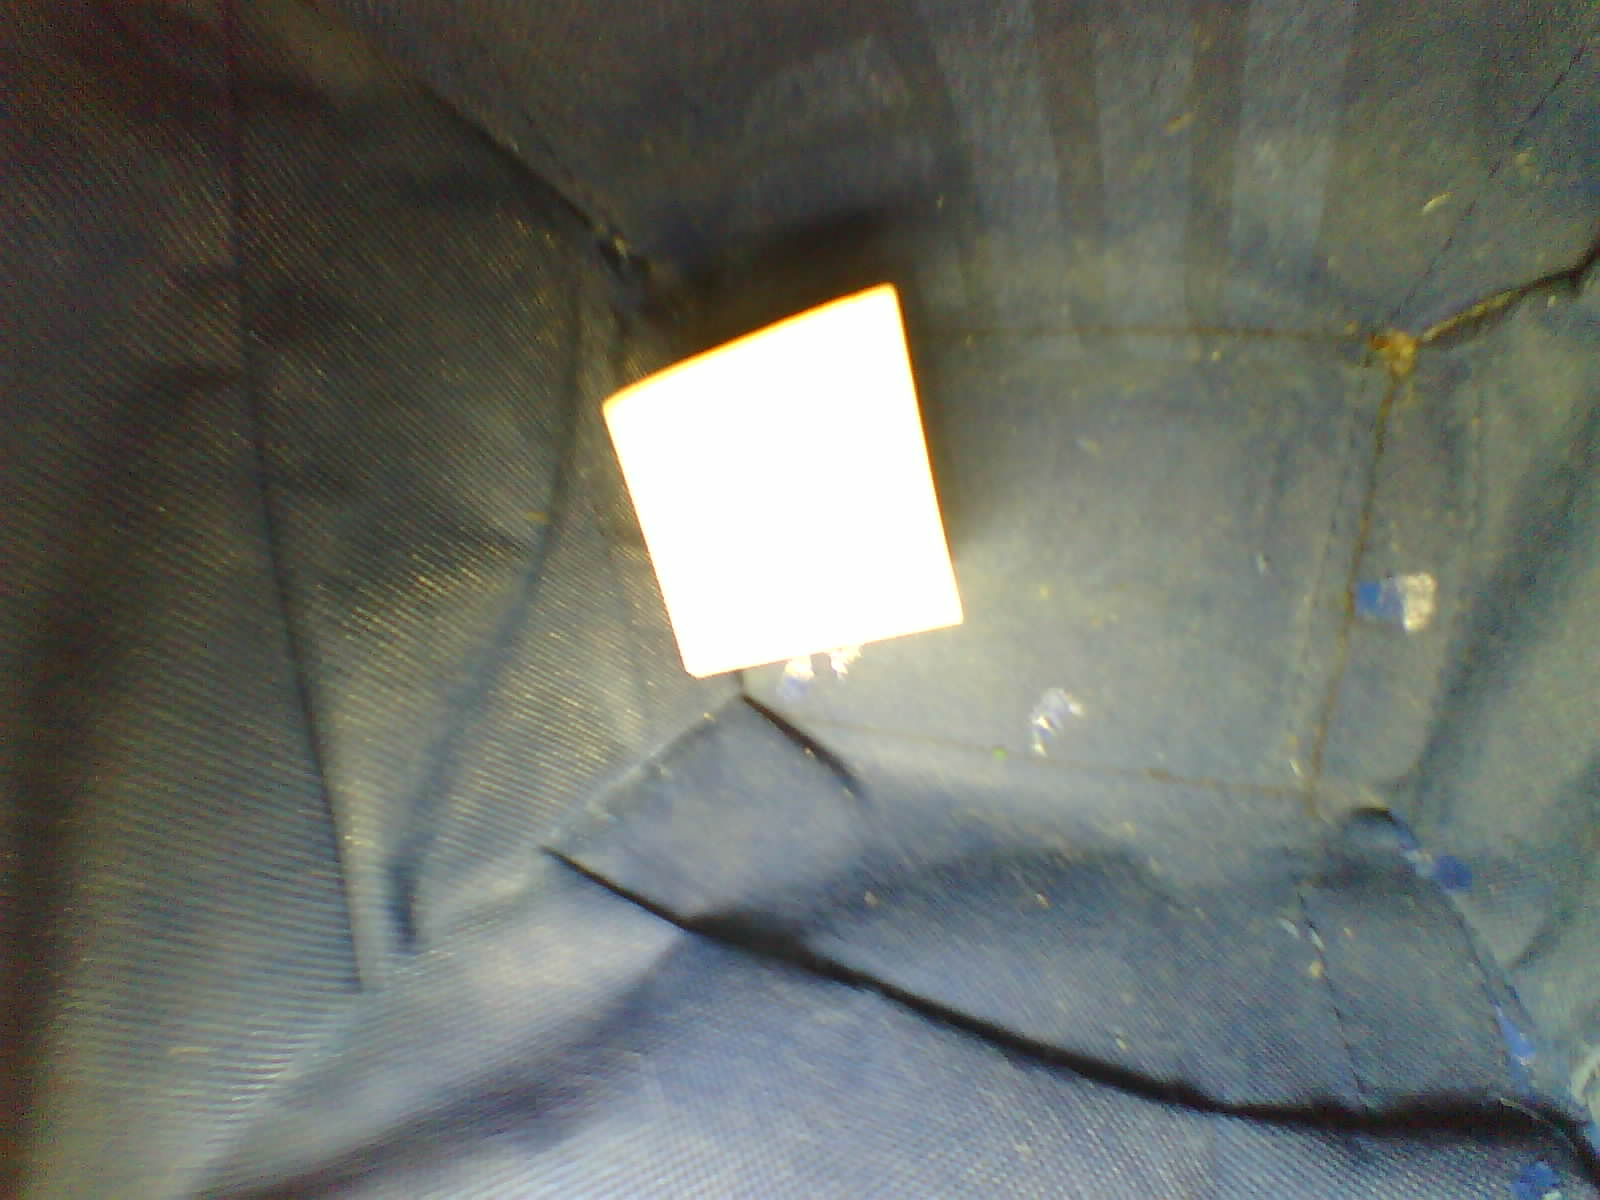cube-hard: (563, 271, 995, 697)
